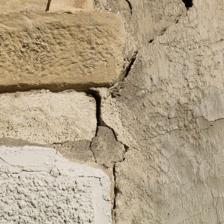Crack: (115, 1, 197, 86), (86, 94, 134, 223), (3, 82, 118, 105)
